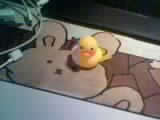duck: (65, 36, 99, 69)
